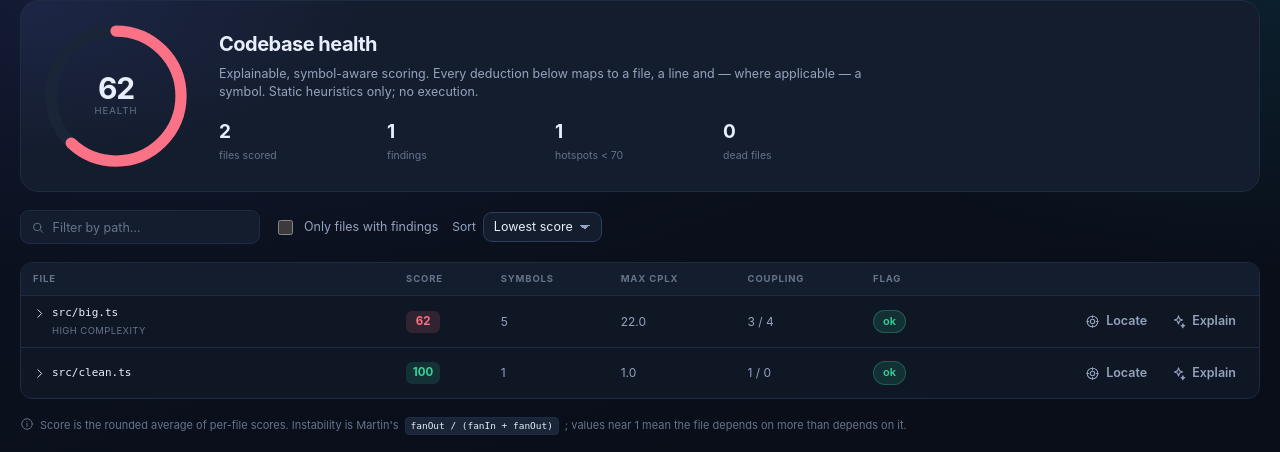
Test: <HealthDashboard /> › filters out clean files when requested
Click the checkbox labelled "Only files with findings": (286,227) 278,220 -> 293,234
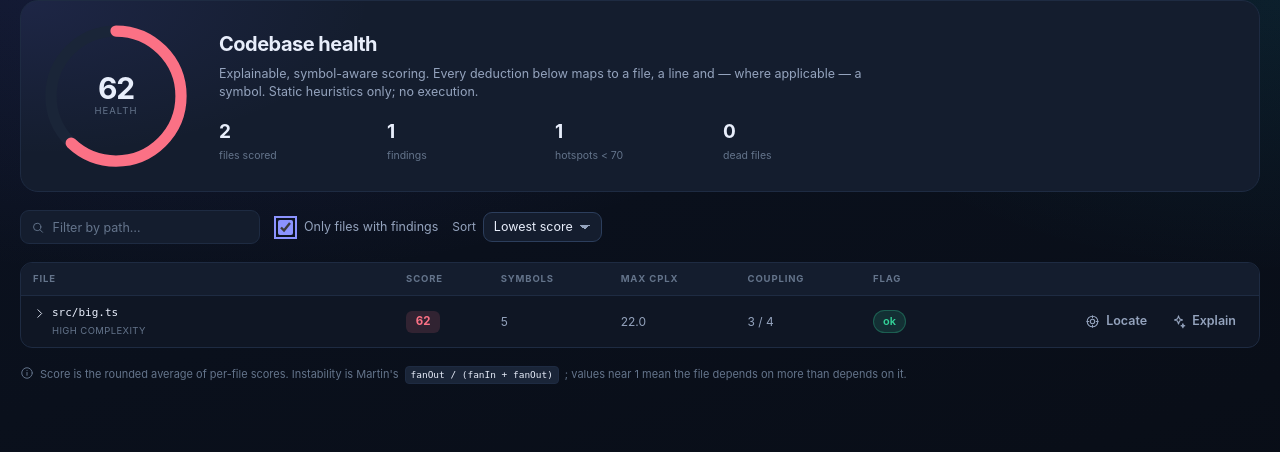
expect the button "src/clean.ts" is gone: met
